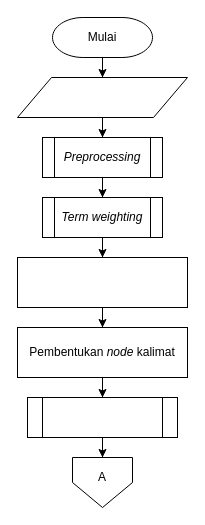
This 205x525 diagram has some shape labels left out. The shapes that lost their labels are listed below. From the top down, each one's box as (x1, y1, x2, y2) in pixels, then its label:
(16, 76, 188, 118): Masukan artikel berita
(16, 256, 188, 308): Pembentukan graf dokumen
(26, 396, 178, 438): Perhitungan BM25
